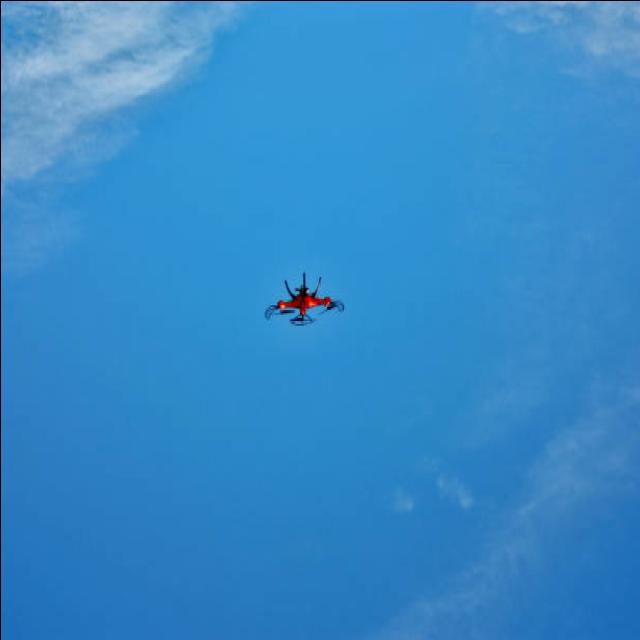drone: (264, 272, 346, 328)
